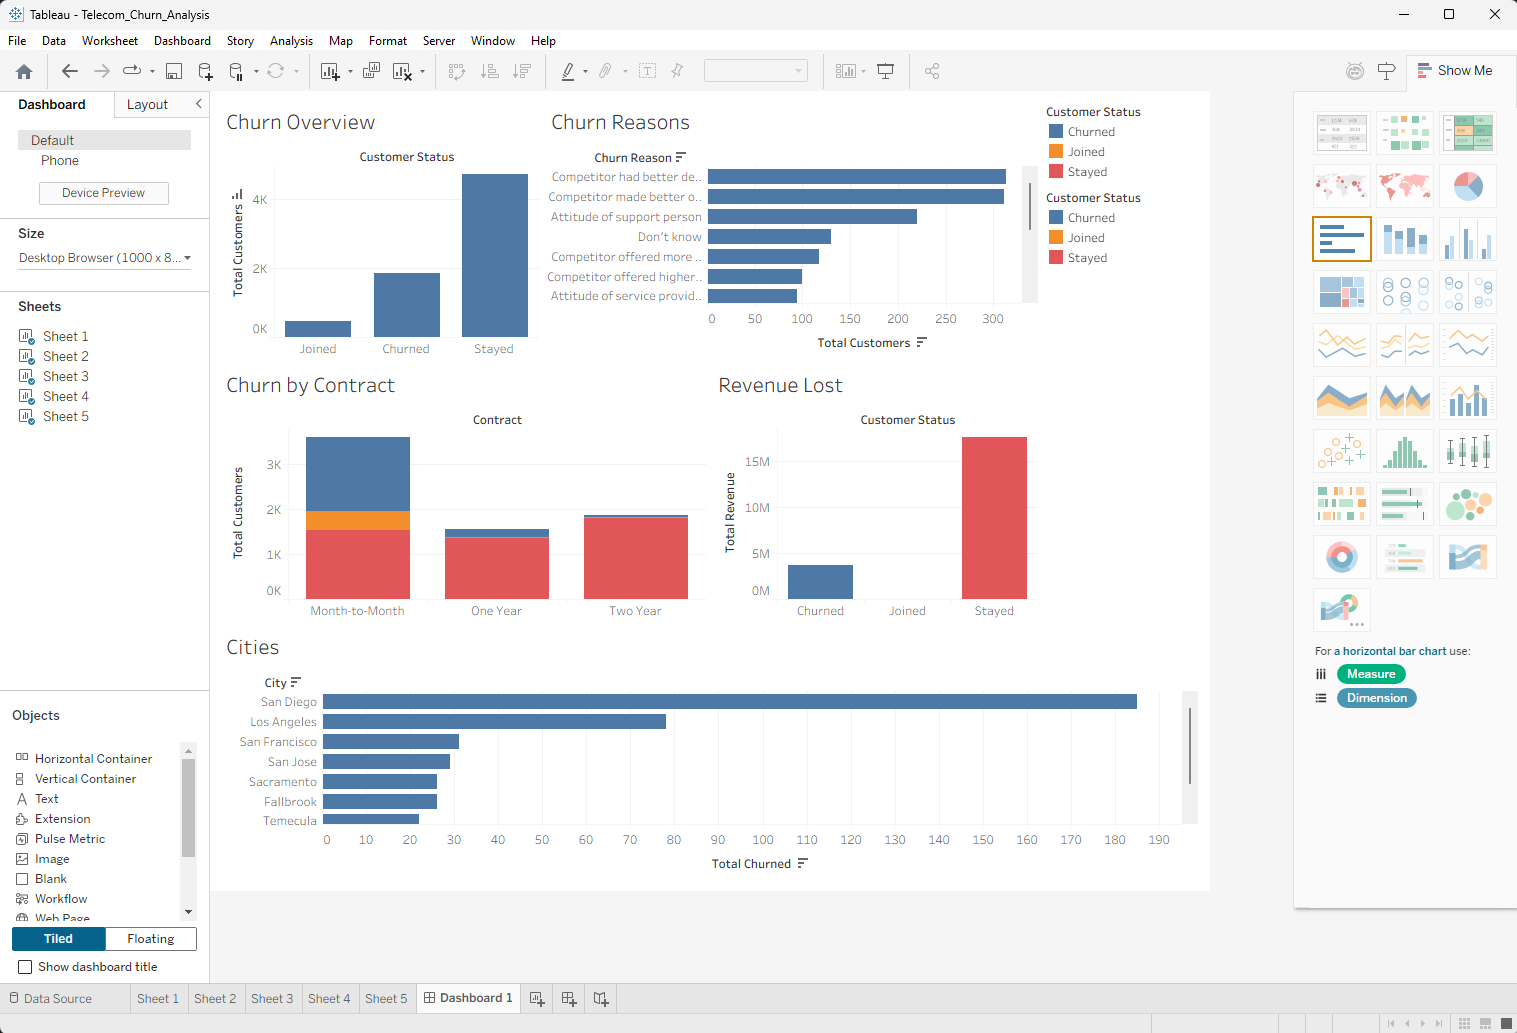

The page's visual inventory and layout, read from the dashboard file:
{"tool":"tableau","page":{"name":"Dashboard 1","canvas":[1000,800],"ordinal":0},"visuals":[{"type":"worksheet","title":"Sheet 1","mark":"Automatic","rows":["total_customers"],"cols":["Customer Status"],"box":[8,8,325,262.5]},{"type":"worksheet","title":"Sheet 3","mark":"Automatic","rows":["Churn Reason"],"cols":["total_customers"],"box":[333,8,499,262.5]},{"type":"legend","title":"Sheet 2","param":"[federated.0ji7gg31g7j1s41d5rfwh0xed9jb].[none:Customer Status:nk]","box":[832,8,160,86]},{"type":"legend","title":"Sheet 4","param":"[federated.0w6cjv91xua3qj13gnedd0u3m3ph].[none:Customer Status:nk]","box":[832,94,160,86]},{"type":"worksheet","title":"Sheet 2","mark":"Automatic","rows":["total_customers"],"cols":["Contract"],"box":[8,270.5,492,262.5]},{"type":"worksheet","title":"Sheet 4","mark":"Automatic","rows":["total_revenue"],"cols":["Customer Status"],"box":[500,270.5,332,262.5]},{"type":"worksheet","title":"Sheet 5","mark":"Automatic","rows":["City"],"cols":["total_churned"],"box":[8,533,984,259]}]}

Visuals, with their boxes on the page's 1000x800 design canvas (x1, y1, x2, y2). These are canvas units, not pixel positions in the 1517x1033 screenshot, which may show the page scaled, cropped or inside an application window:
"Sheet 1" worksheet: (left=8, top=8, right=333, bottom=270)
"Sheet 3" worksheet: (left=333, top=8, right=832, bottom=270)
"Sheet 2" legend: (left=832, top=8, right=992, bottom=94)
"Sheet 4" legend: (left=832, top=94, right=992, bottom=180)
"Sheet 2" worksheet: (left=8, top=270, right=500, bottom=533)
"Sheet 4" worksheet: (left=500, top=270, right=832, bottom=533)
"Sheet 5" worksheet: (left=8, top=533, right=992, bottom=792)
